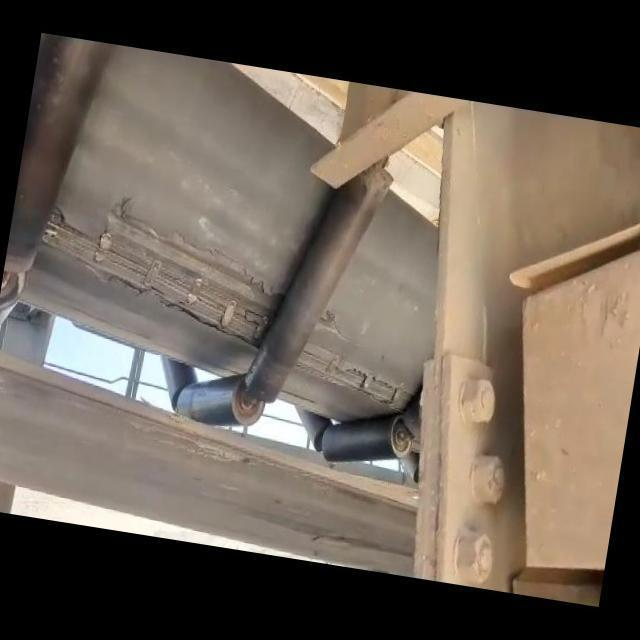Tear: (42, 188, 282, 350), (298, 304, 415, 409)
